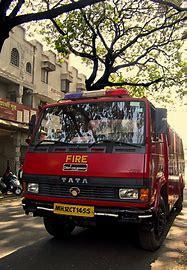Fire-engine: (19, 88, 185, 251)
